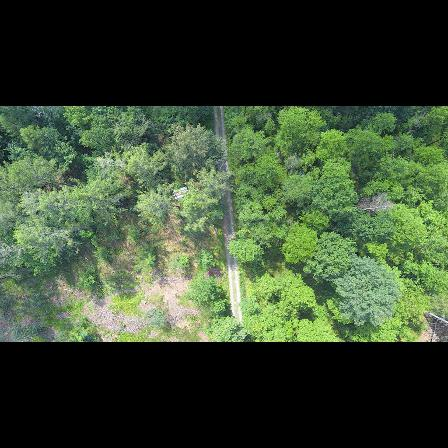Dead: (351, 191, 398, 217)
